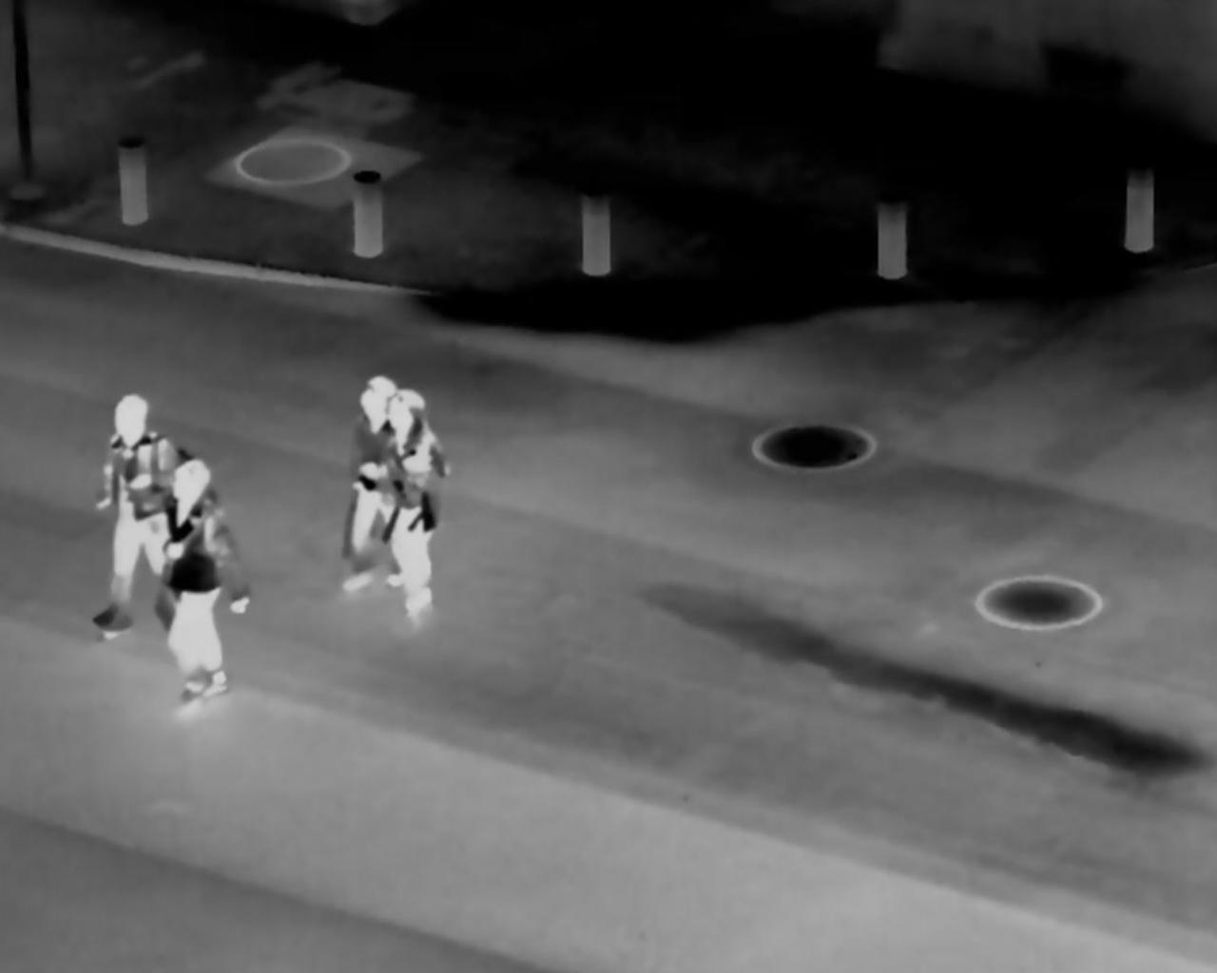person: (153, 461, 258, 703), (94, 391, 179, 640), (370, 380, 448, 624), (336, 358, 405, 604)
